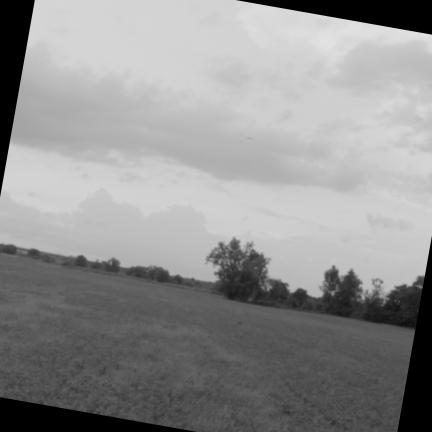Shahed: (245, 137, 255, 140)
